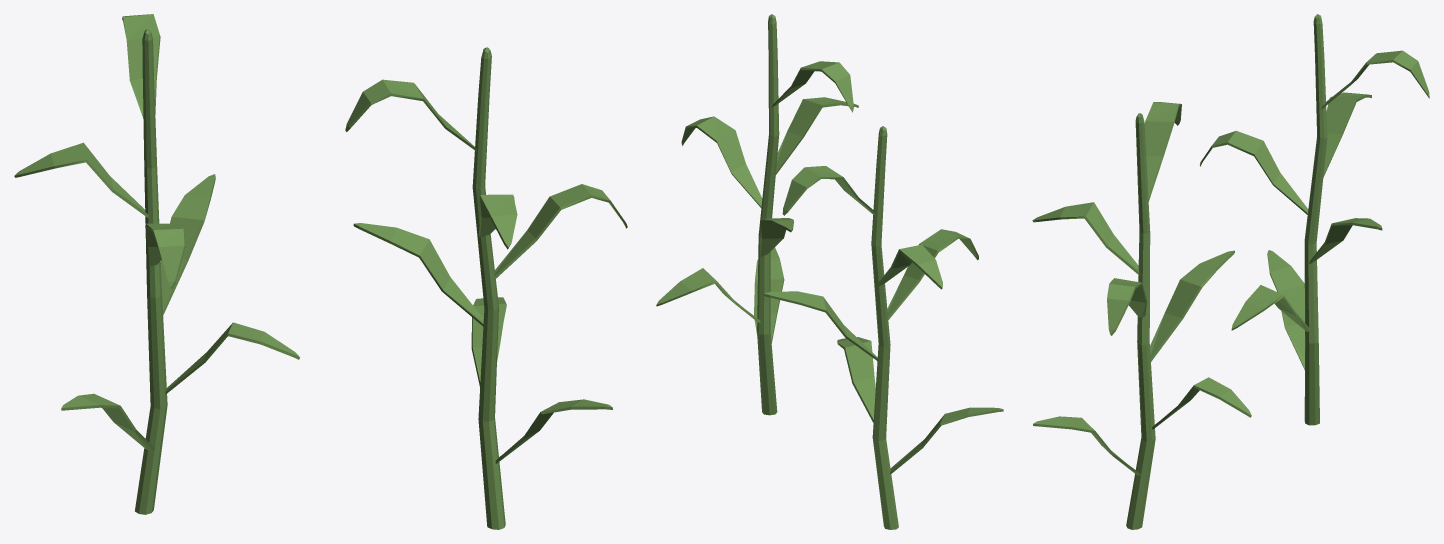
Rendered from crop_corn.s3.glb.
3 renders of one model, left to right at view 1: azimuth 30°, elevation 25°; view 2: azimuth 150°, elevation 25°; view 3: azimuth 270°, elevation 25°, orthographic. The views are drawn at different scales.
Size of the model in its own units: 0.6584 by 0.6339 by 0.5554.
